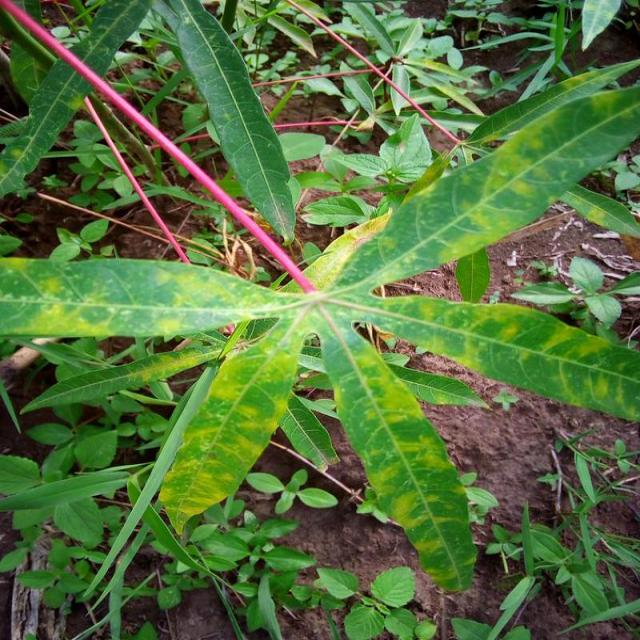cassava leaf: (1, 51, 638, 596), (155, 0, 297, 244)
